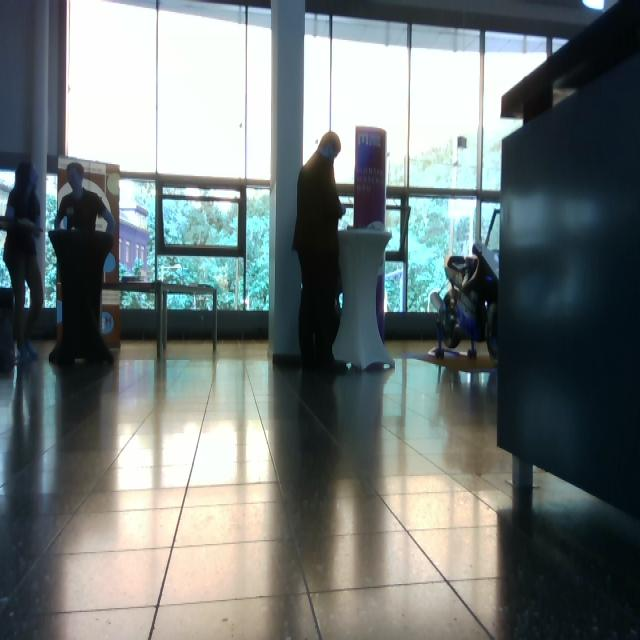light bulb: (354, 126, 387, 229), (104, 252, 117, 273), (582, 1, 605, 12)
person: (292, 130, 349, 373), (49, 163, 116, 367), (1, 161, 44, 365)
pillar: (268, 1, 306, 364)
table: (331, 224, 398, 376), (159, 280, 221, 358)
tiled floor: (2, 336, 638, 638)
window: (59, 1, 272, 316)
